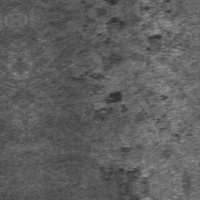rolled-in_scale: (93, 139, 158, 191)
